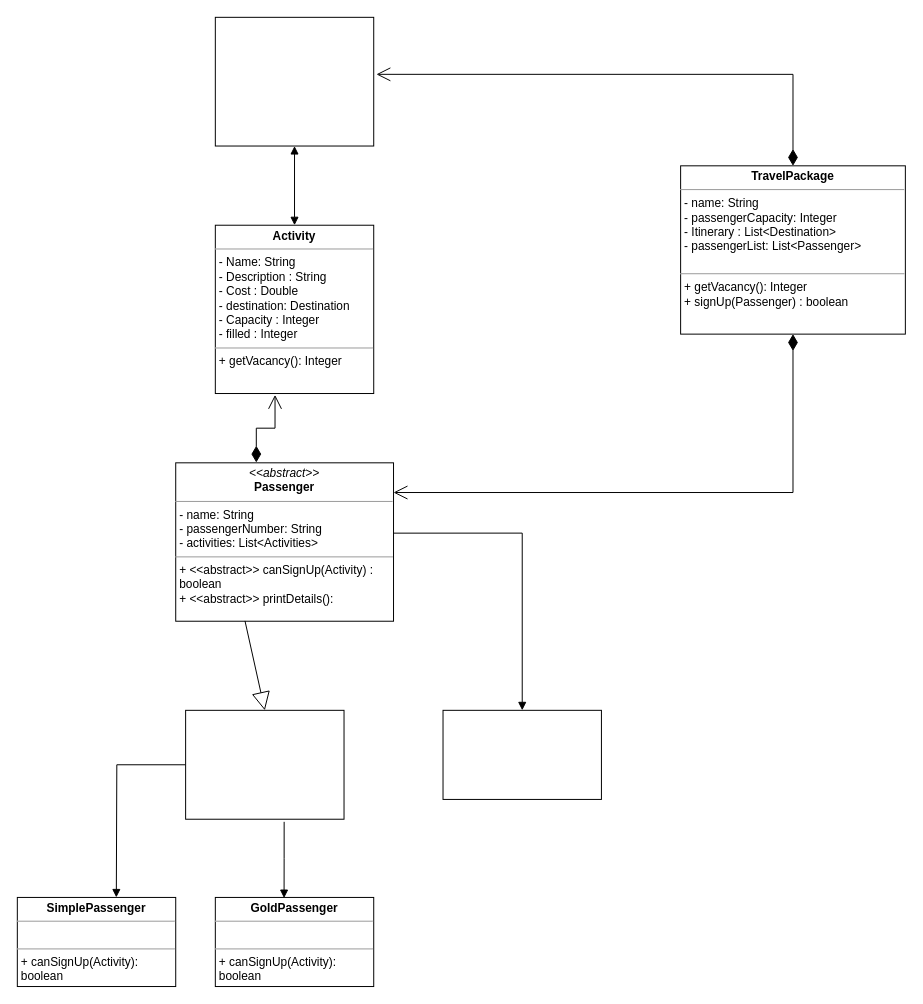
Some shapes in this 923 by 1004 pixel diagram are drawn without their labels. Each missing label, with the centre of its shape:
<<abstract>> NonPrimimumPassenger - balance: Double + printDetails(): void: pixel 264 764
Destination - Name: String - activities: List<Activity>: pixel 294 81
PremiumPassenger + signUp(Activity): boolean + printDetails : void: pixel 521 754
